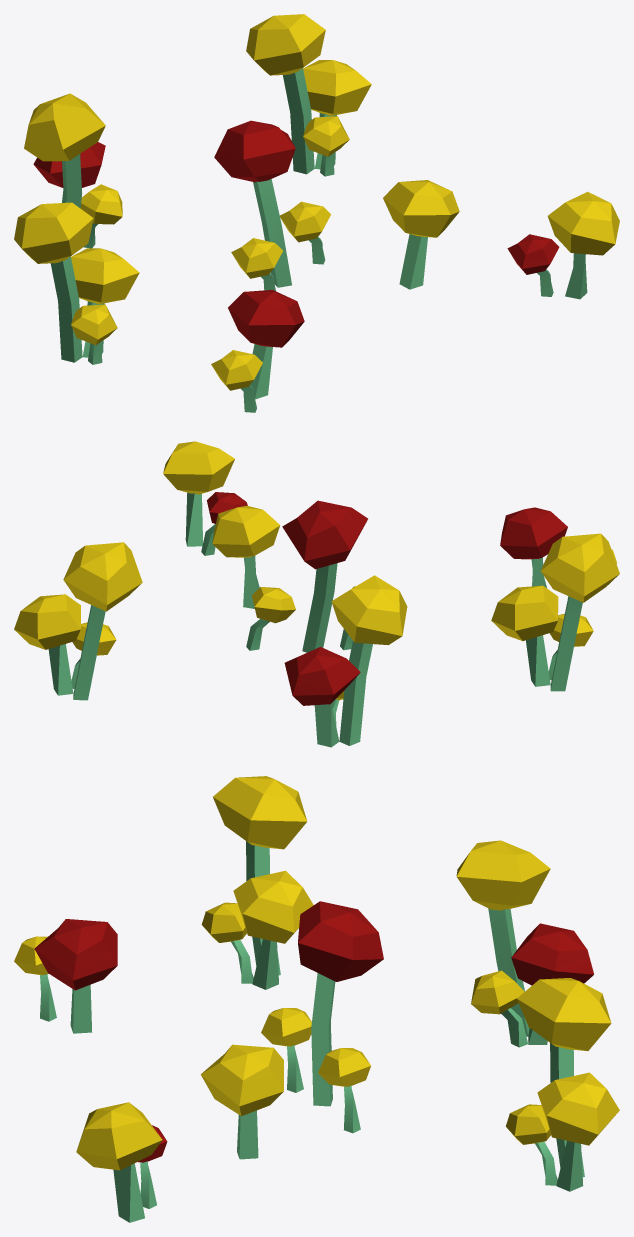
Rendered from SM_Tile_Yellow_flowers.fbx.
The picture shows the model from 3 angles, top to bottom: view 1: azimuth 30°, elevation 25°; view 2: azimuth 150°, elevation 25°; view 3: azimuth 270°, elevation 25°; orthographic projection. The views are drawn at different scales.
Parts seen in each view (by area): view 1: SM_Flowers_Yellow; view 2: SM_Flowers_Yellow; view 3: SM_Flowers_Yellow.
Boxes of the visible parts, box(x1,y1,x2,y2) form: SM_Flowers_Yellow: box(14, 14, 619, 412); SM_Flowers_Yellow: box(14, 441, 619, 747); SM_Flowers_Yellow: box(14, 776, 619, 1222).
Bounding box in the file's own units: 0.8647 × 0.2444 × 0.7486.
